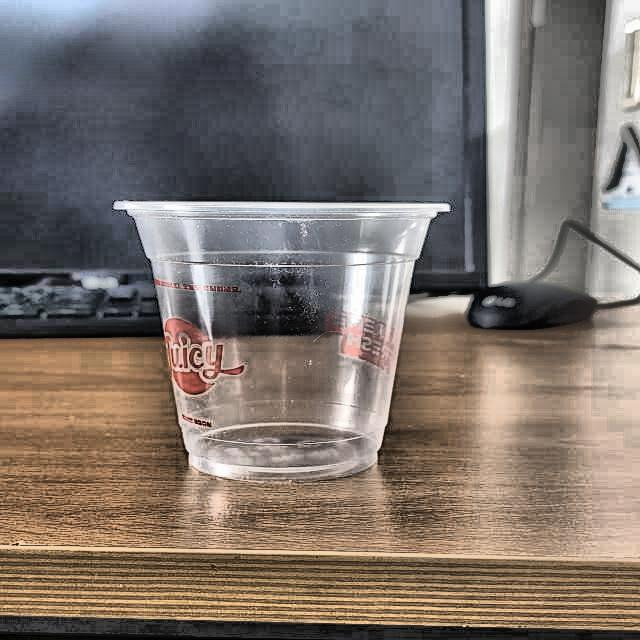plastic cup: (112, 196, 454, 478)
